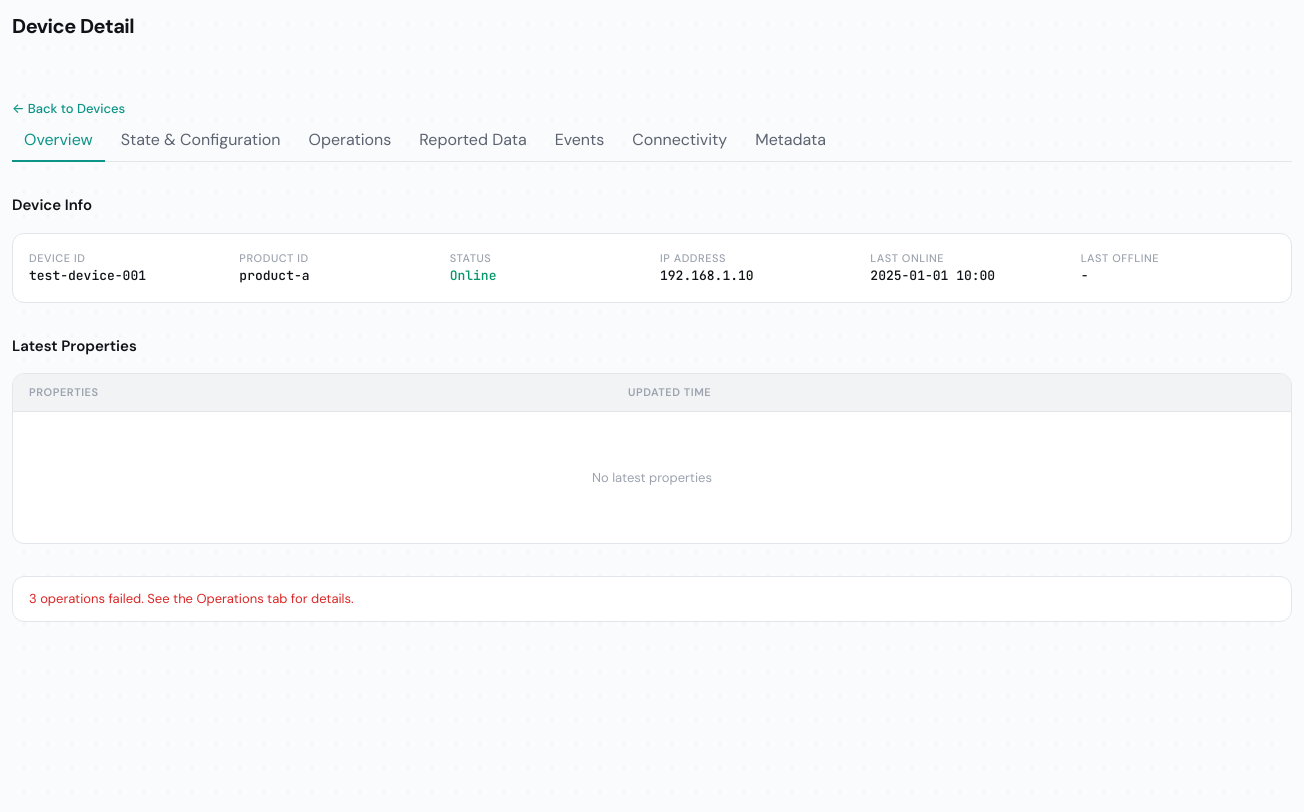
Test: Operations section › renders one row per operation with its fixed type label
What coordinates should you click on to do the following:
click the tab "Operations"
I would click on:
 (350, 141)
Its box is x1=296 y1=120 x2=403 y2=162.
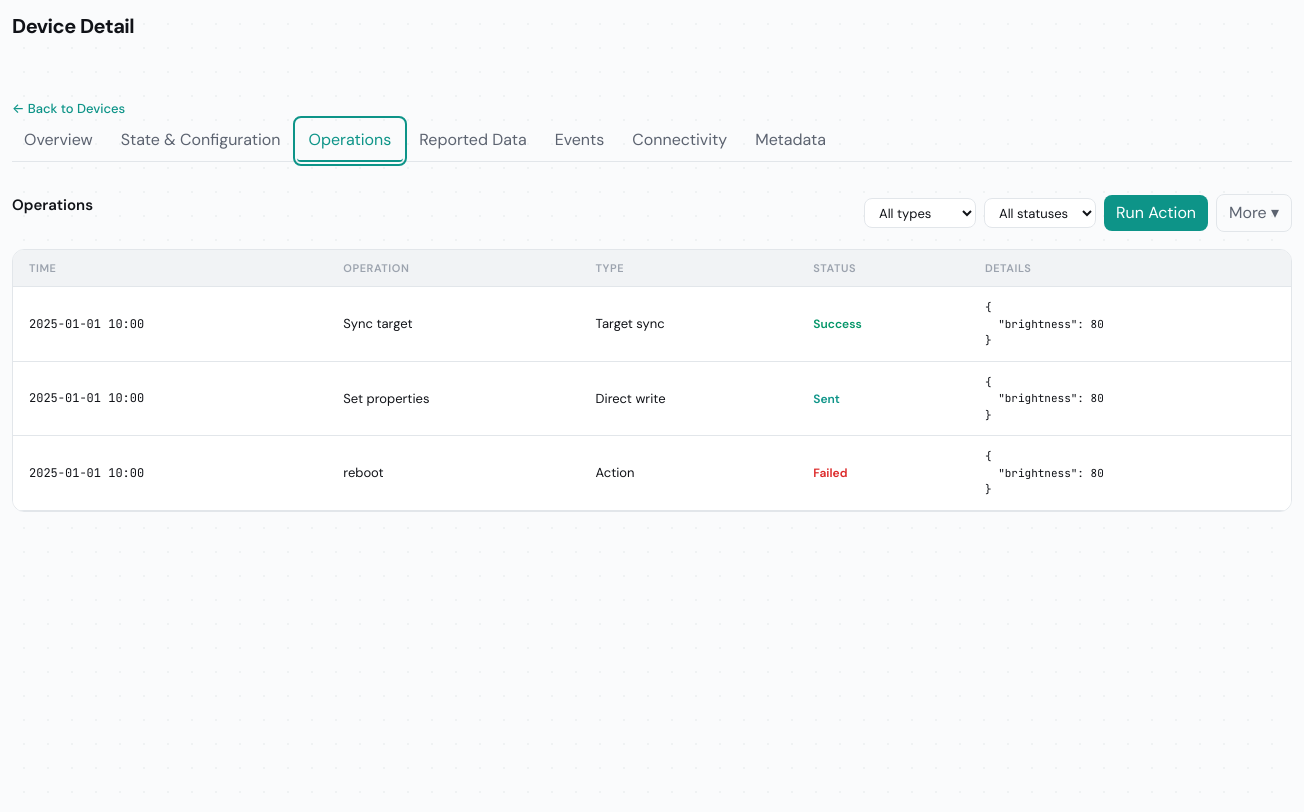
Now the text "Target sync" is shown, box x1=580 y1=286 x2=797 y2=361
Now the text "Direct write" is shown, box x1=580 y1=361 x2=797 y2=436
Now the text "Action" is shown, box x1=580 y1=436 x2=797 y2=510
